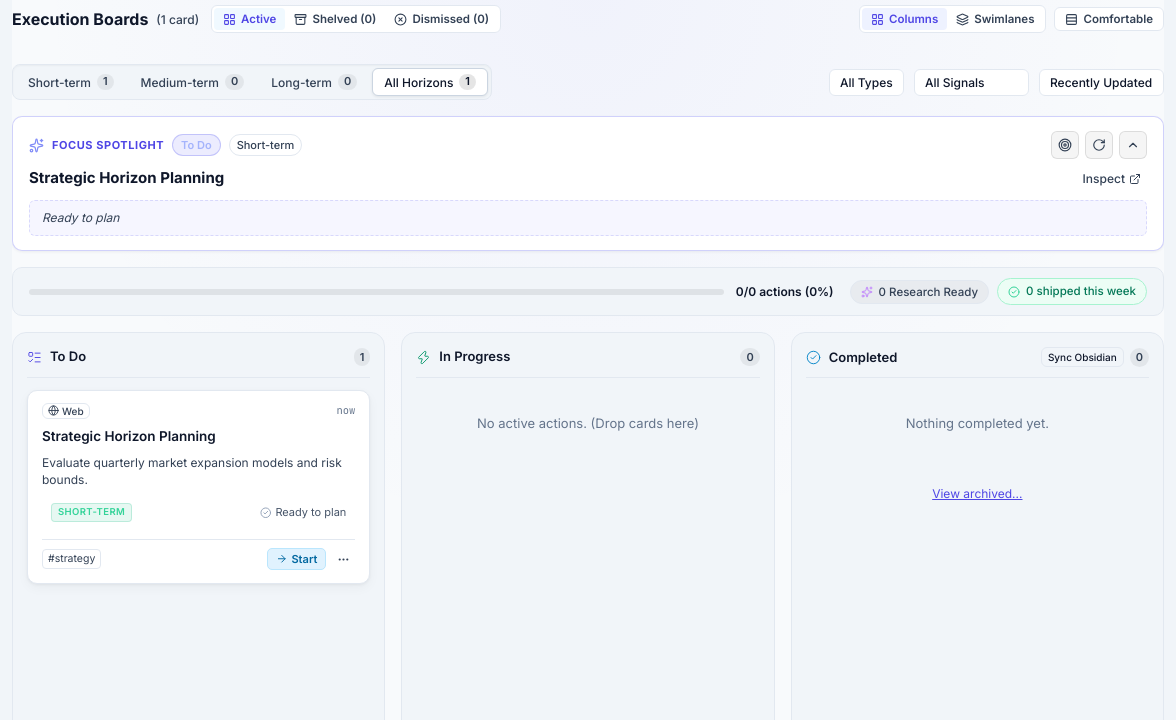
Test: KanbanBoard Density & Usability › renders comfortable density by default and toggles to compact
# Toggle to compact
What coordinates should you click on to do the following:
click the button with aria-label "switch card density"
I would click on:
 (1109, 19)
Its box is [1054,7,1164,31].
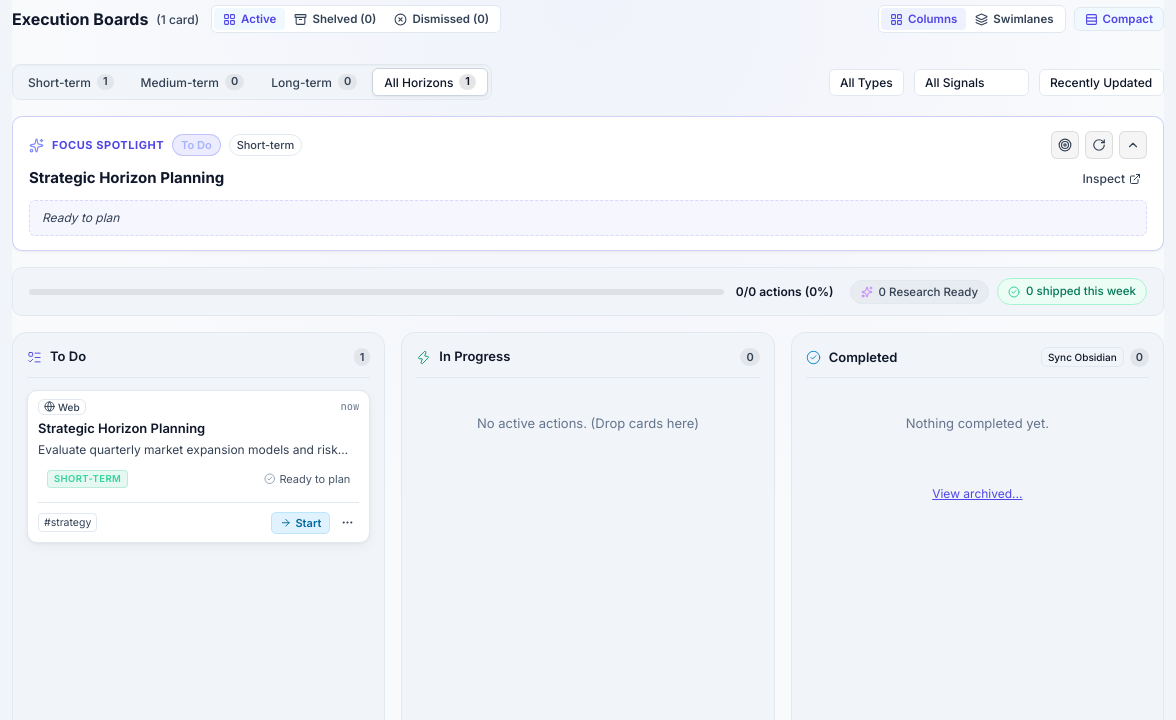
Now the button with aria-label "switch card density" reads "Compact"
# Toggle back to comfortable
What coordinates should you click on to do the following:
click the button with aria-label "switch card density"
I would click on:
 (1119, 19)
Its box is [1074,7,1164,31].
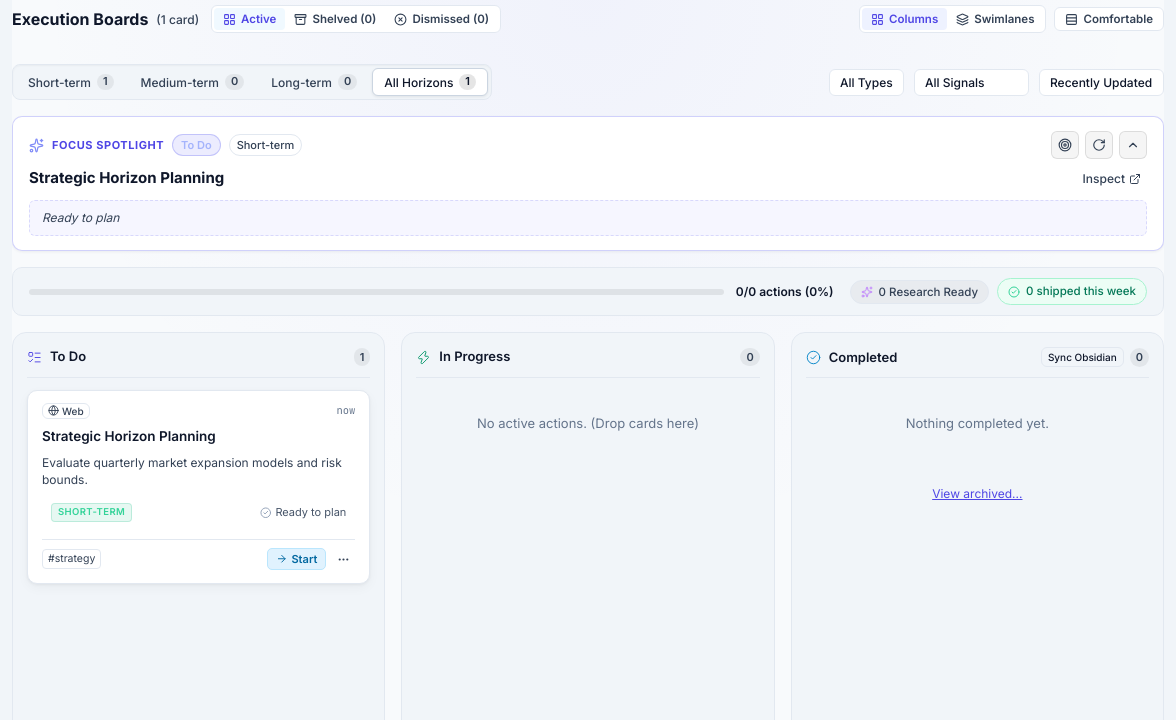
Now the button with aria-label "switch card density" reads "Comfortable", box [1054,7,1164,31]
